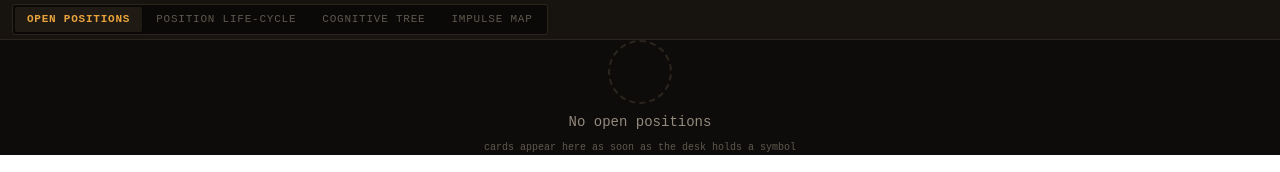
Test case: LearningDashboard › switches to cognitive tree view when tab is selected
Click the tab "Cognitive tree" at [374, 19], box [310,7,438,32]
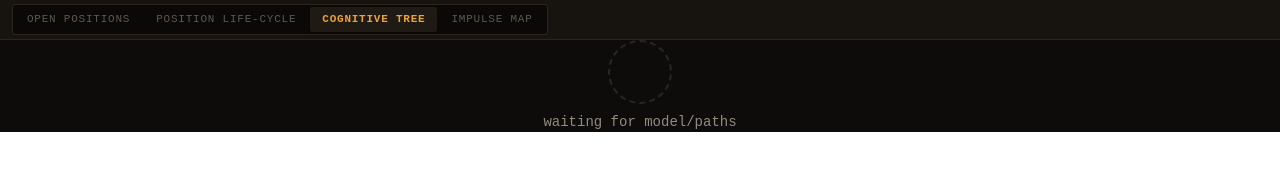
Check: the text "waiting for model/paths" is shown, box [543,112,737,132]
